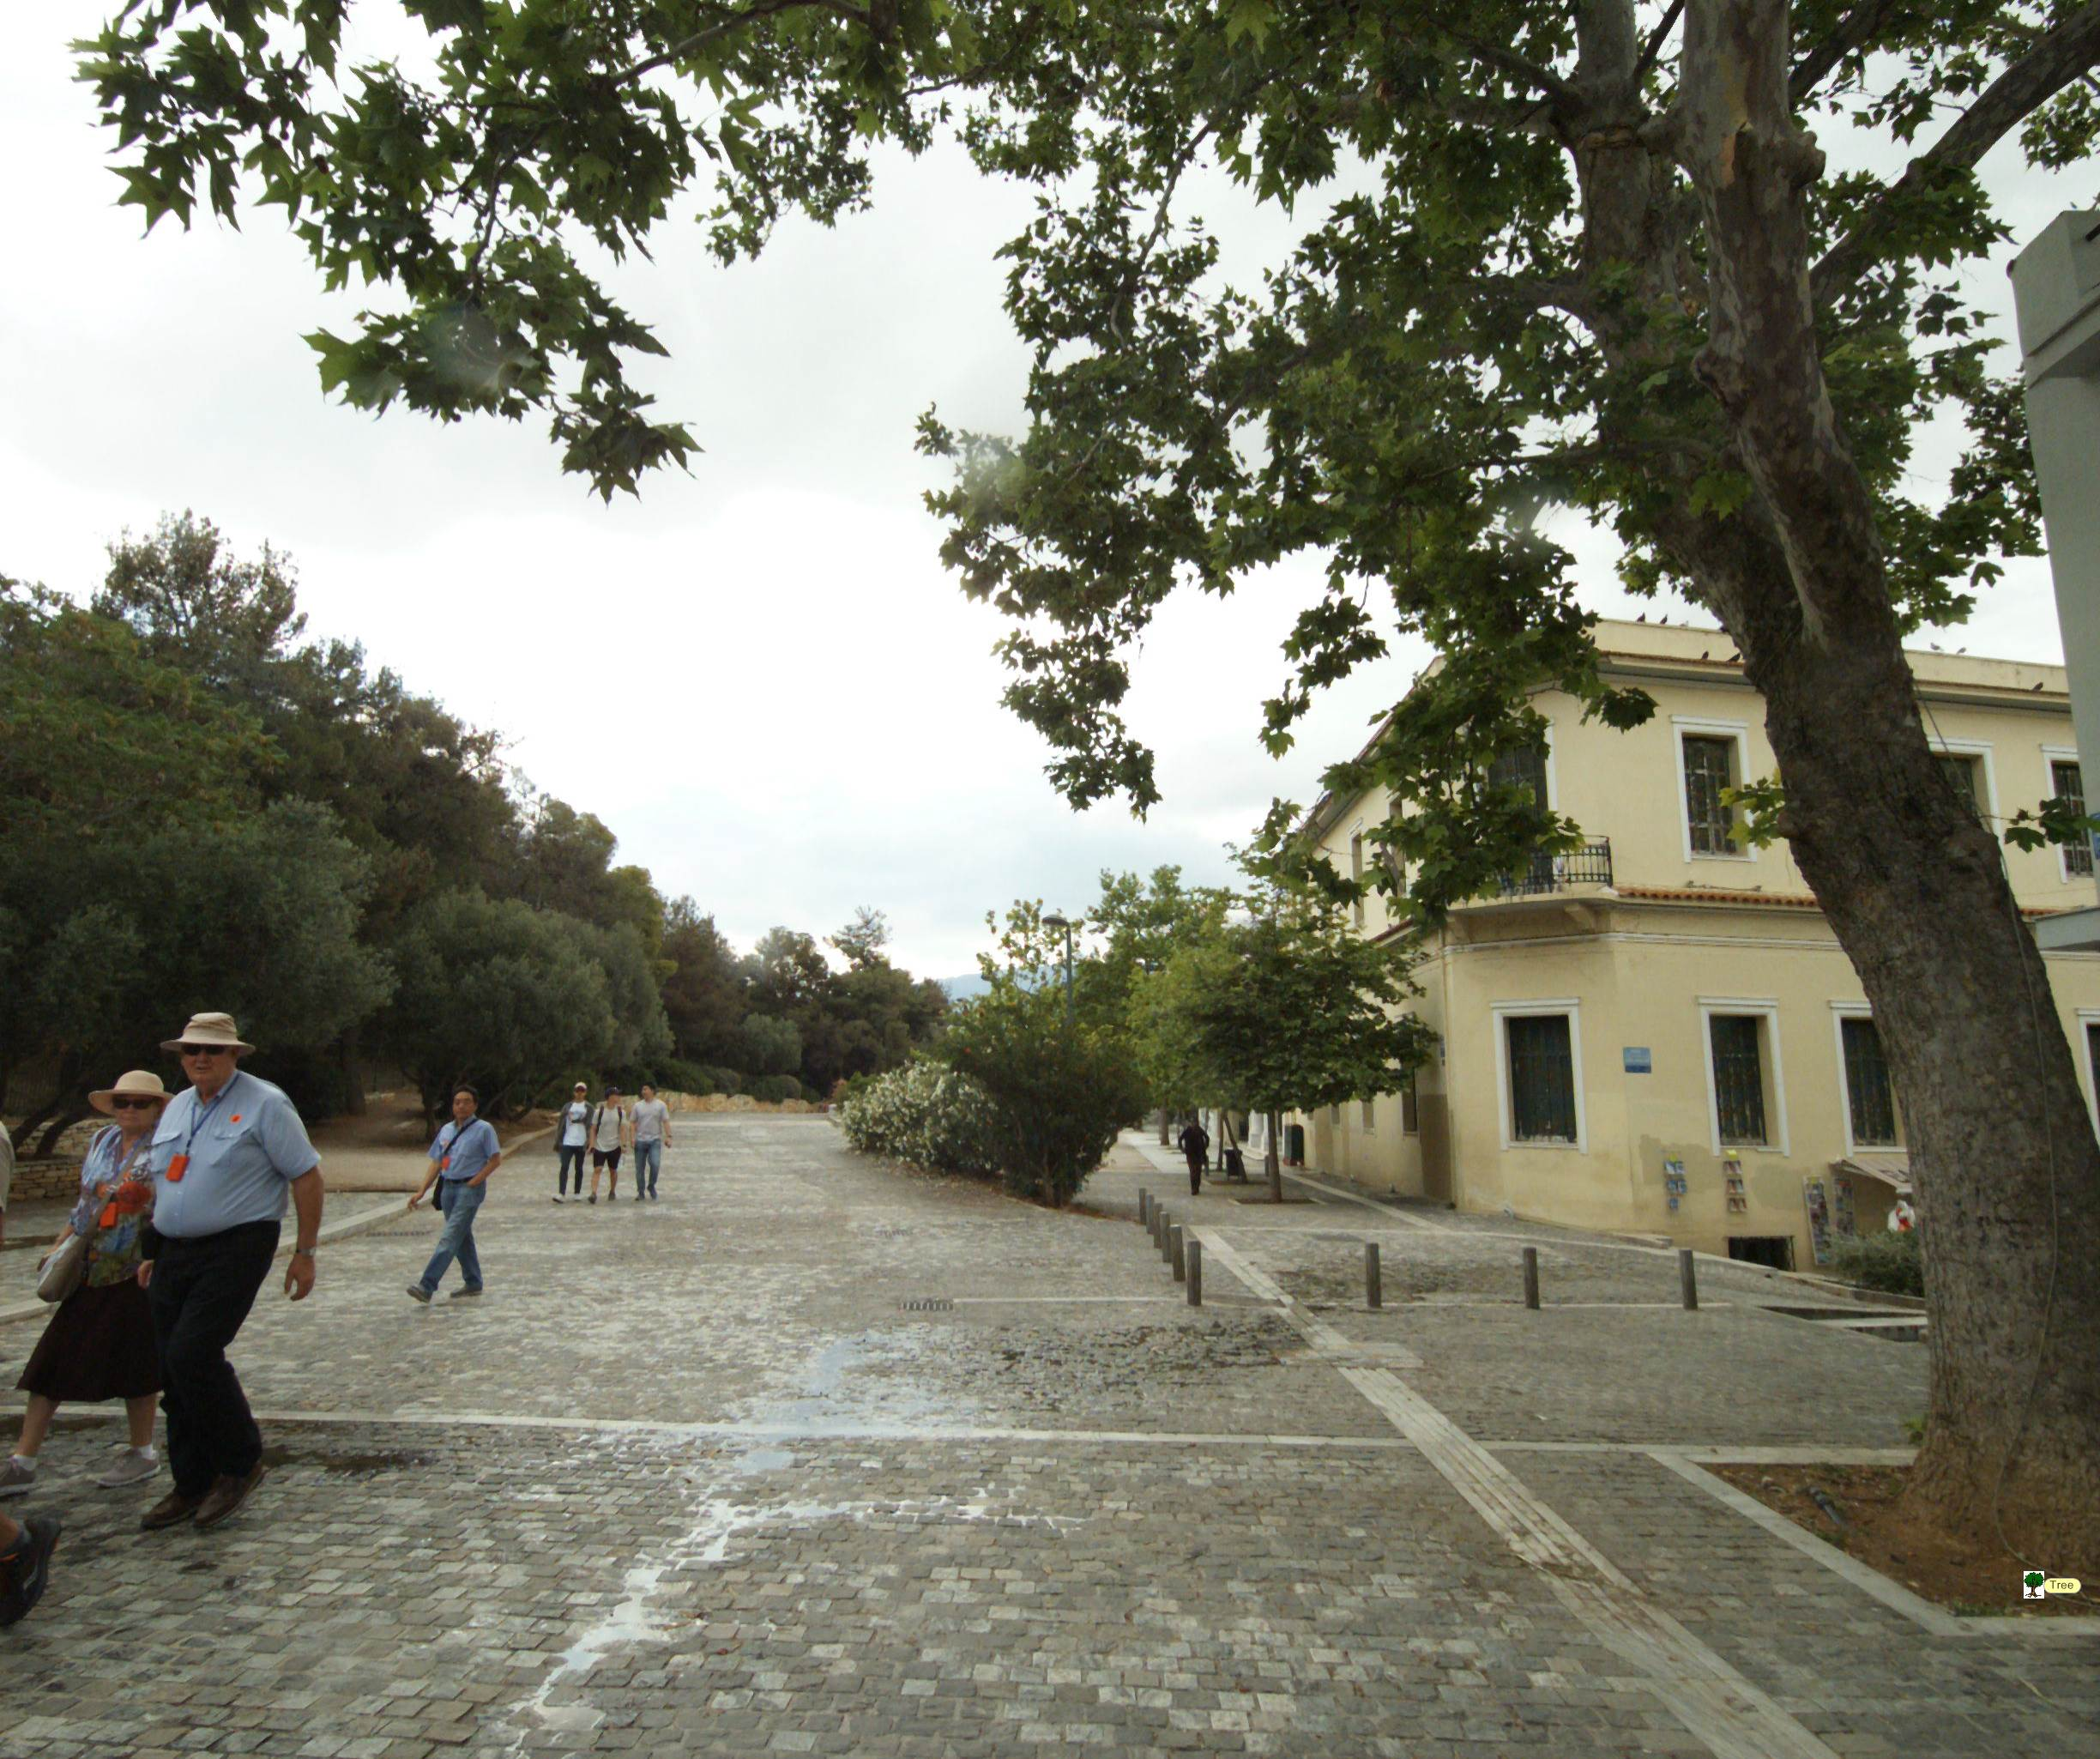tree: (921, 7, 2100, 1602)
